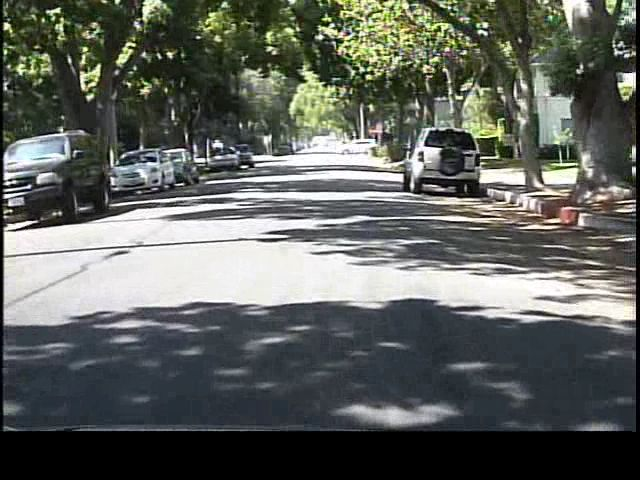car: (1, 130, 117, 222), (402, 121, 485, 197), (109, 145, 171, 194), (171, 145, 198, 185)
